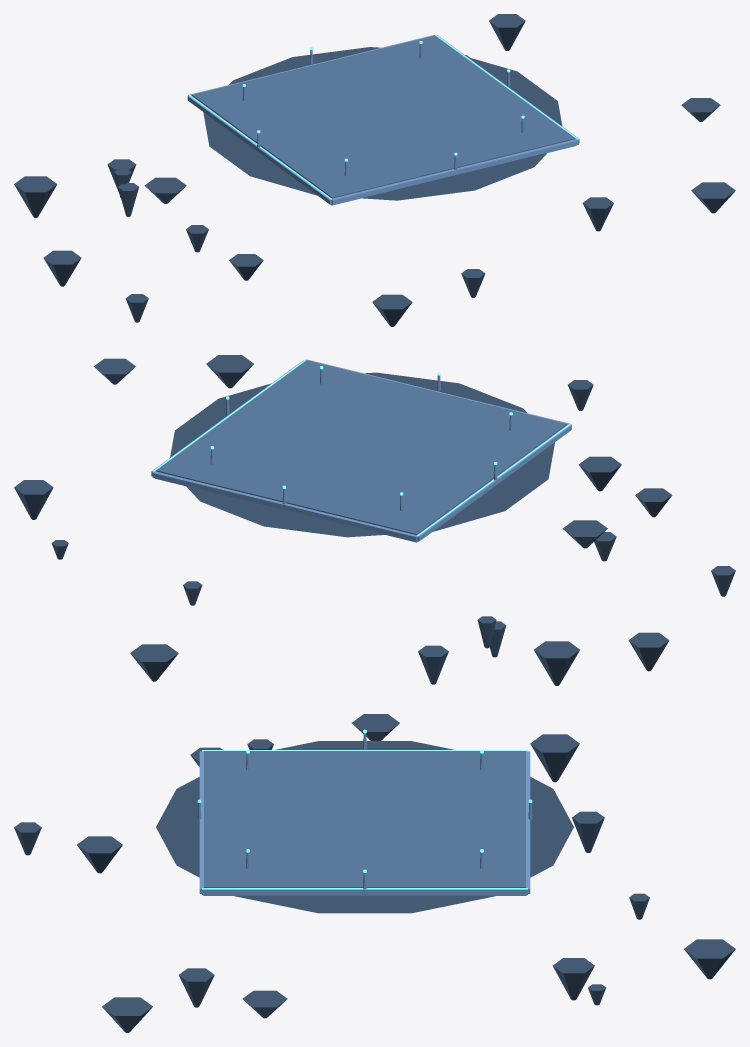
The model's file is neptuno.glb.
The picture shows the model from 3 angles, top to bottom: view 1: azimuth 30°, elevation 25°; view 2: azimuth 150°, elevation 25°; view 3: azimuth 270°, elevation 25°; orthographic projection. The views are drawn at different scales.
Parts seen in each view (by area): view 1: neptuno; view 2: neptuno; view 3: neptuno.
Boxes of the visible parts, x1,y1,x2,y2 form: neptuno: [14, 14, 735, 326]; neptuno: [14, 355, 735, 685]; neptuno: [14, 714, 735, 1032].
Bounding box in the file's own units: 86.07 × 18.48 × 78.55.
